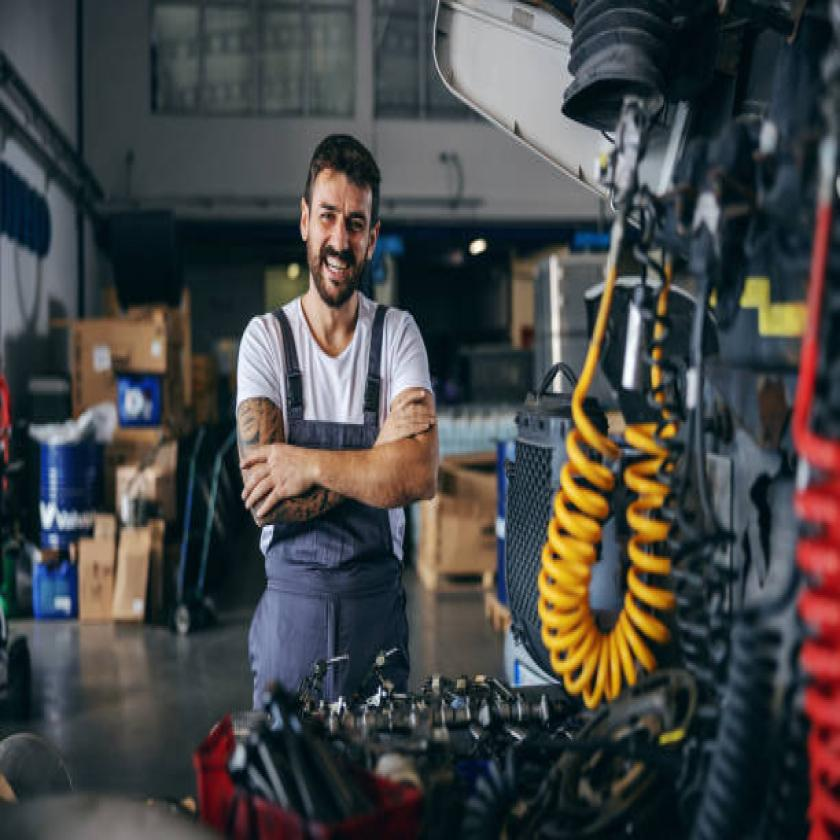Sin_casco: (300, 131, 382, 318)
